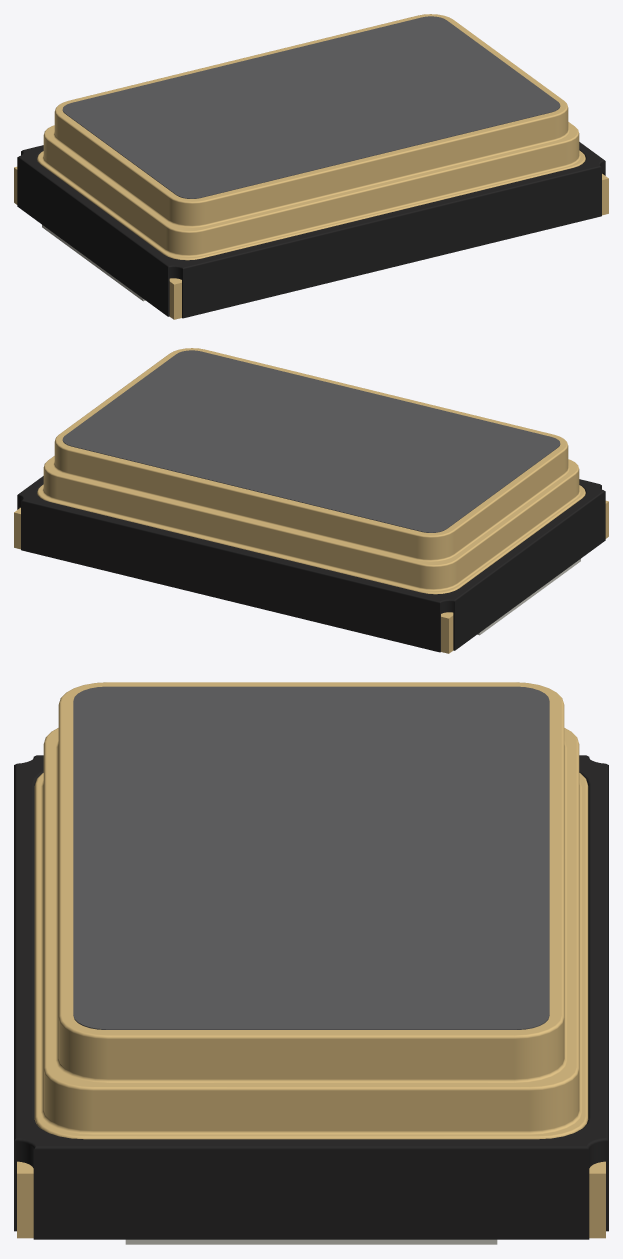
The model's file is Crystal_SMD_5032-2Pin_5.0x3.2mm.glb.
The picture shows the model from 3 angles, top to bottom: view 1: azimuth 30°, elevation 25°; view 2: azimuth 150°, elevation 25°; view 3: azimuth 270°, elevation 25°; orthographic projection. The views are drawn at different scales.
Visible parts, largest first — view 1: =>[0:1:1:3]; view 2: =>[0:1:1:3]; view 3: =>[0:1:1:3].
Part boxes in pixels (left/top/right/bottom): =>[0:1:1:3]: left=14, top=14, right=608, bottom=319; =>[0:1:1:3]: left=14, top=348, right=608, bottom=653; =>[0:1:1:3]: left=14, top=682, right=608, bottom=1244.
Bounding box in the file's own units: 0.005 × 0.00113 × 0.0032.
